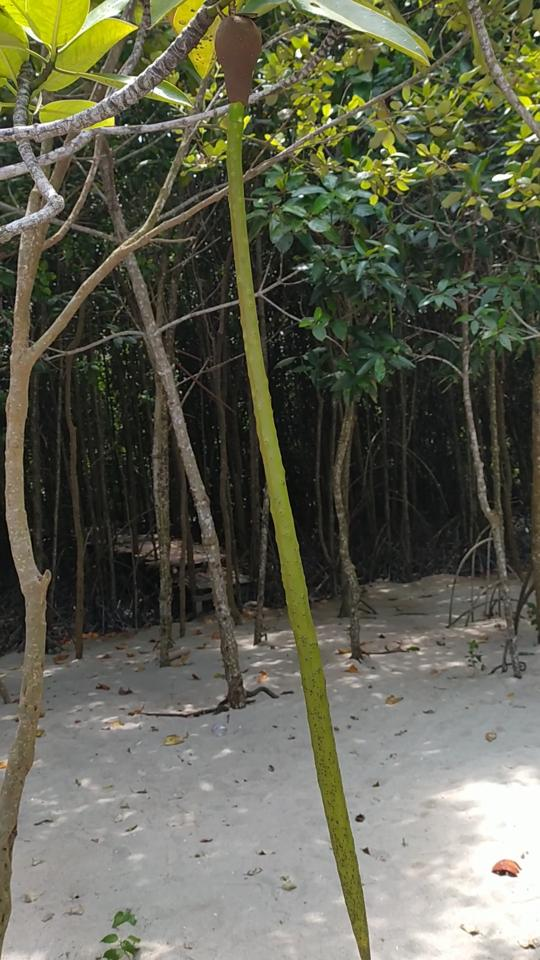mentah: (193, 3, 394, 958)
